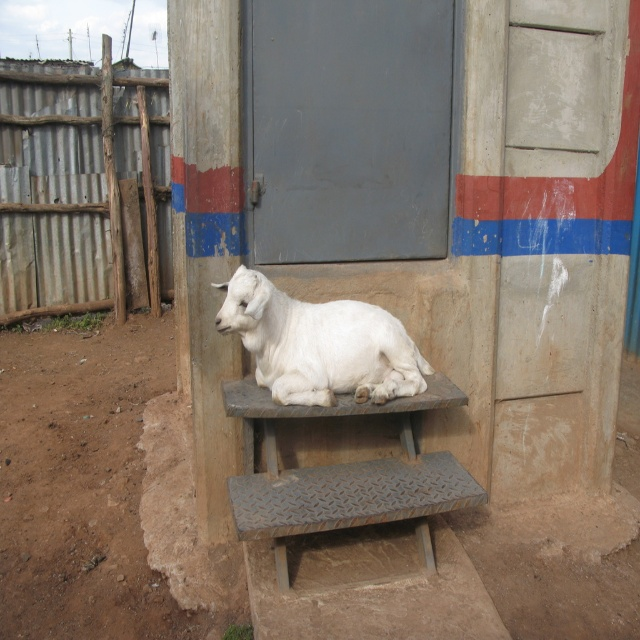Goat: (206, 250, 452, 430)
